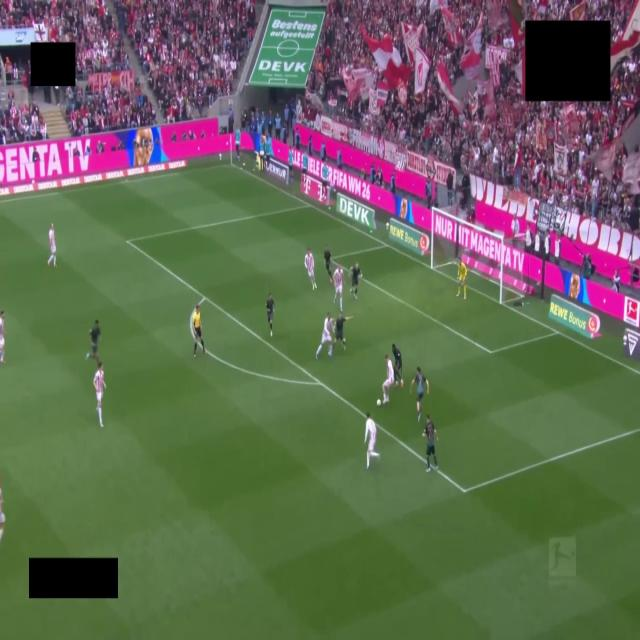ball: (377, 400, 381, 407)
player: (410, 368, 429, 422), (365, 413, 379, 469), (423, 415, 437, 471), (316, 313, 333, 359), (93, 362, 105, 427), (334, 312, 352, 349), (382, 355, 394, 404), (86, 320, 100, 359), (304, 249, 316, 289), (333, 264, 343, 311), (392, 344, 403, 386), (350, 263, 362, 299), (457, 259, 467, 299), (48, 224, 56, 267), (266, 294, 274, 336), (324, 247, 332, 283), (0, 487, 5, 542), (0, 311, 4, 364)
referee: (192, 305, 206, 357)
